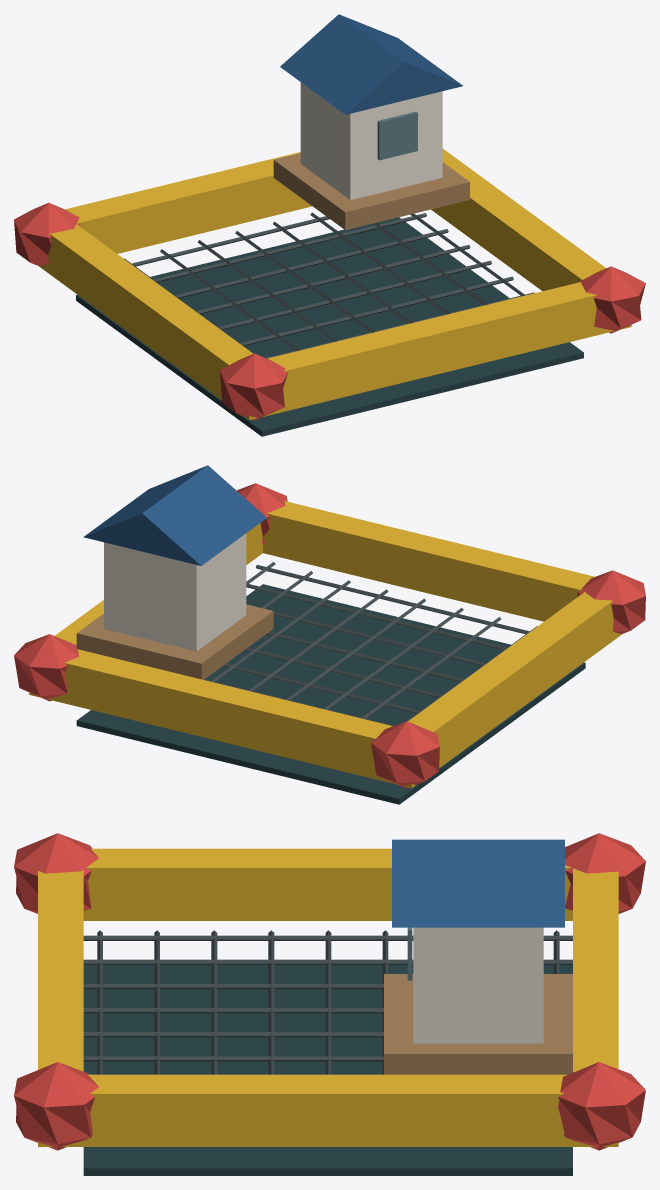
Rendered from fish-farm.glb.
The picture shows the model from 3 angles, top to bottom: view 1: azimuth 30°, elevation 25°; view 2: azimuth 150°, elevation 25°; view 3: azimuth 270°, elevation 25°; orthographic projection. The views are drawn at different scales.
Visible parts, largest first — view 1: Yellow, Net, Metal, Ivory, HarborBlue, RescueRed, Wood, Window; view 2: Yellow, Net, Ivory, RescueRed, HarborBlue, Metal, Wood; view 3: Yellow, Net, RescueRed, Metal, HarborBlue, Ivory, Wood.
Boxes of the visible parts, x1,y1,x2,y2 form: Yellow: (39, 148, 631, 420); Net: (76, 217, 583, 436); Metal: (124, 212, 534, 358); Ivory: (300, 82, 442, 199); HarborBlue: (280, 14, 462, 114); RescueRed: (14, 202, 645, 420); Wood: (273, 153, 469, 230); Window: (377, 111, 417, 160); Yellow: (29, 501, 622, 787); Net: (76, 584, 585, 804); Ivory: (104, 533, 246, 651); RescueRed: (14, 483, 645, 788); HarborBlue: (83, 465, 266, 565); Metal: (204, 562, 537, 725); Wood: (76, 604, 273, 679); Yellow: (38, 848, 618, 1146); Net: (83, 965, 572, 1175); RescueRed: (14, 833, 645, 1150); Metal: (83, 930, 572, 1074); HarborBlue: (392, 839, 564, 927); Ivory: (413, 927, 543, 1043); Wood: (384, 974, 572, 1074).
Bounding box in the file's own units: 1.94 × 1 × 1.94.
